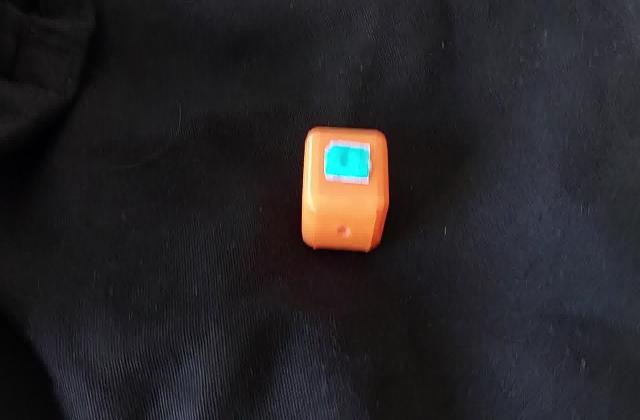cube: (295, 121, 396, 257)
